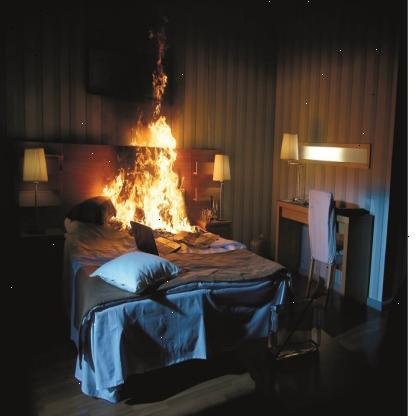fire: (104, 111, 192, 240)
